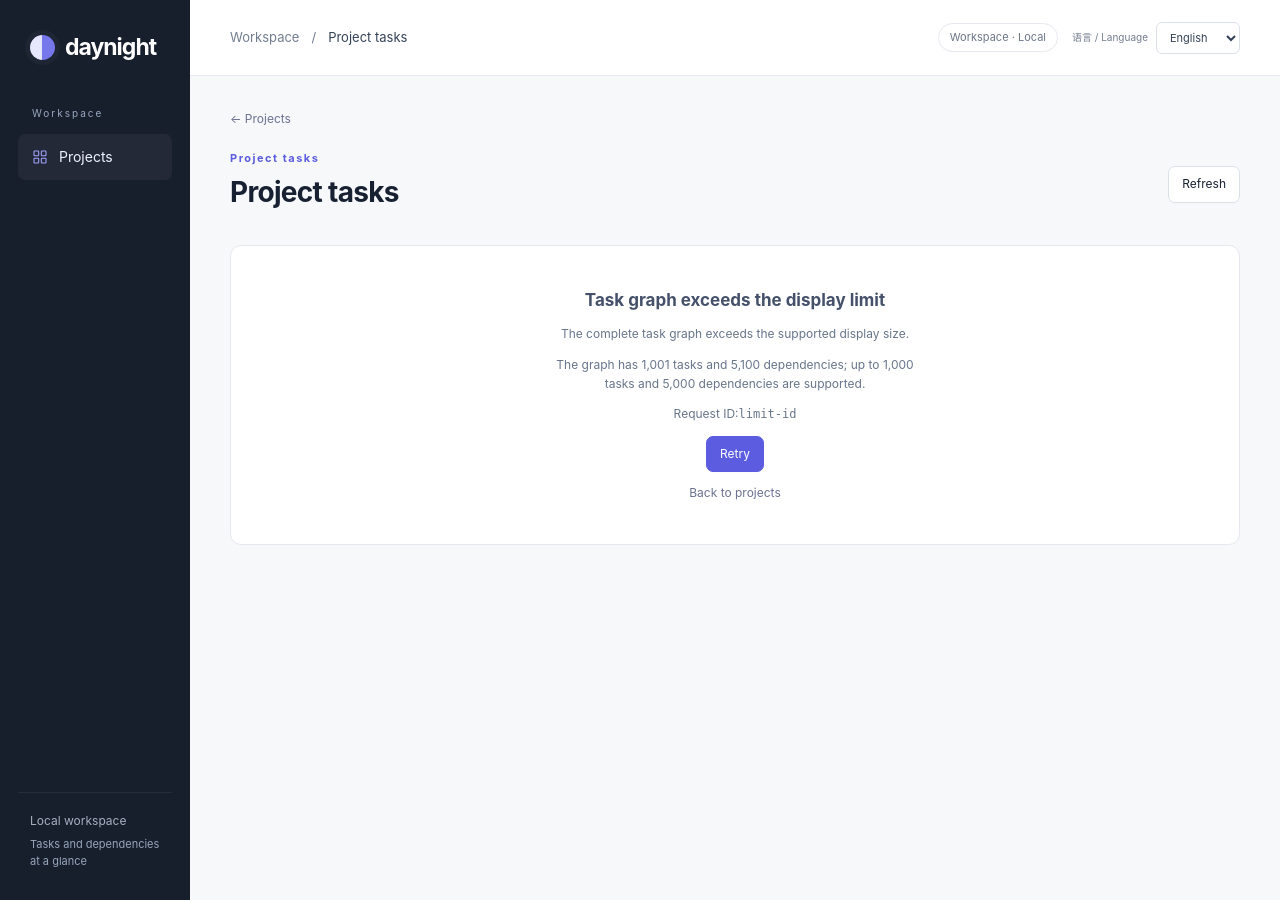
it: workspace localization › retranslates an existing {"name":"ApiError","kind":"server","status":409,"code":"graph_limit_exceeded","requestId":"limit-id","graphLimit":{"nodeCount":1001,"ed
Check: the heading "Task graph exceeds the display limit" is shown, box [585, 287, 885, 313]
Select "简体中文" in the dropdown: (1198, 38) [1156, 22, 1240, 54]
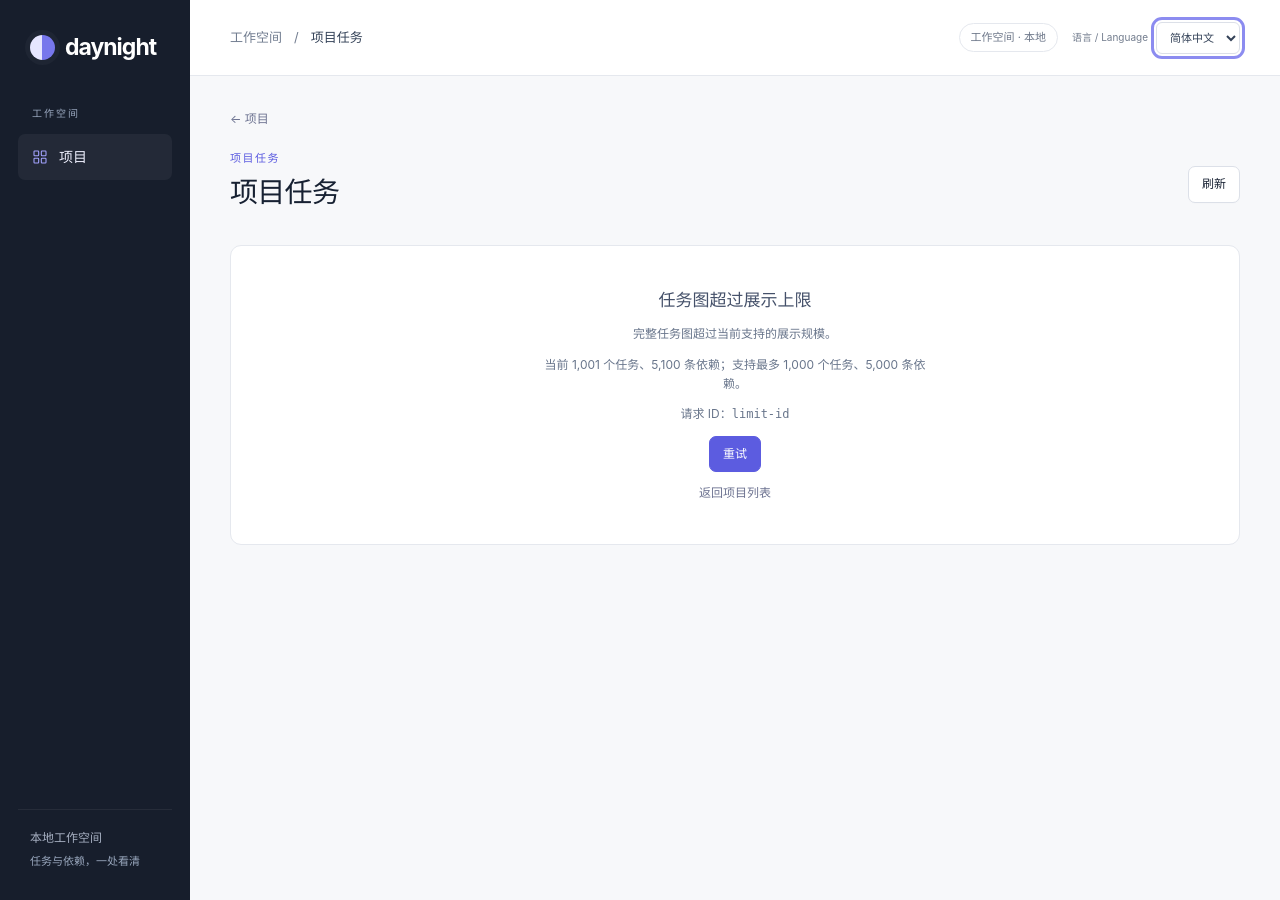
Check: the text "完整任务图超过当前支持的展示规模。" is shown, box [633, 325, 837, 344]
Check: the message shows "当前 1,001 个任务、5,100 条依赖；支持最多 1,000 个任务、5,000 条依赖。", box [544, 357, 926, 391]
